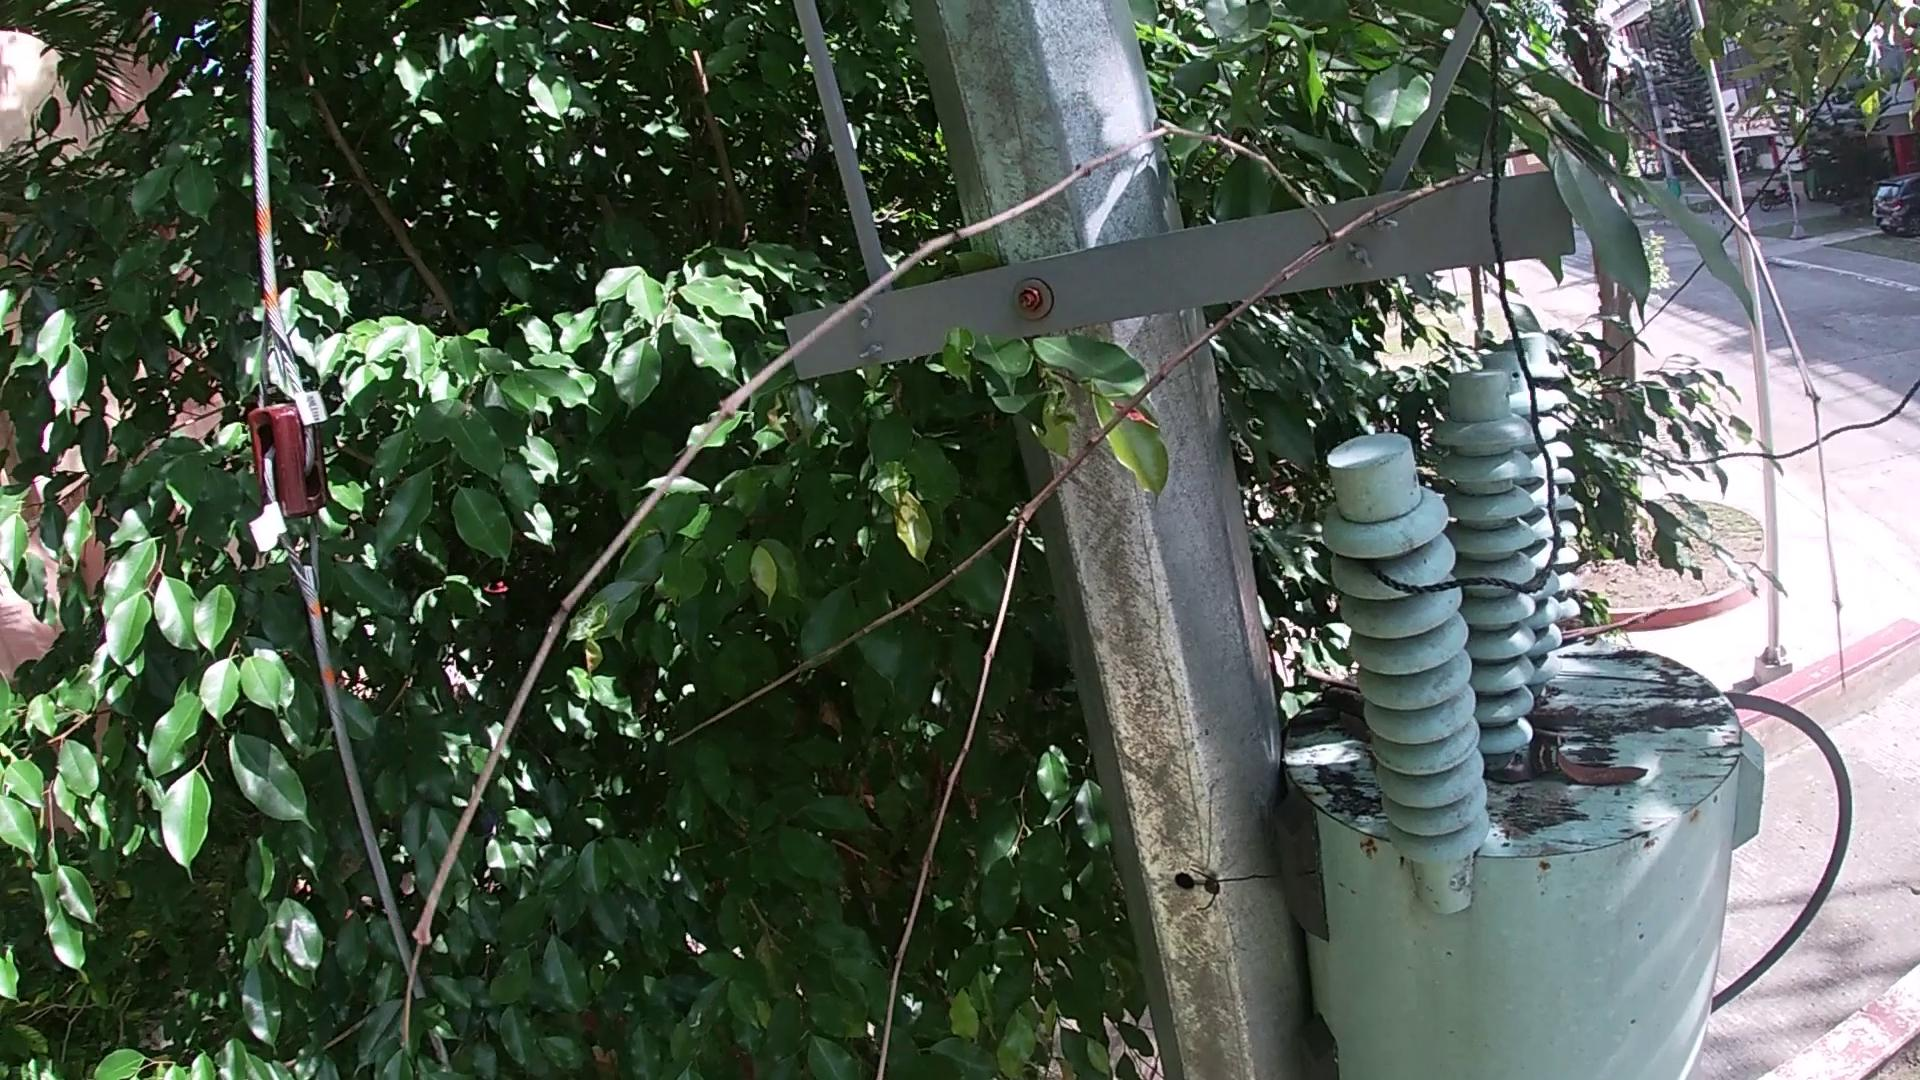leaf: (1549, 738, 1647, 790), (1336, 707, 1373, 740)
tree branch: (396, 59, 1858, 1077), (1564, 603, 1673, 645), (1305, 669, 1365, 717)
